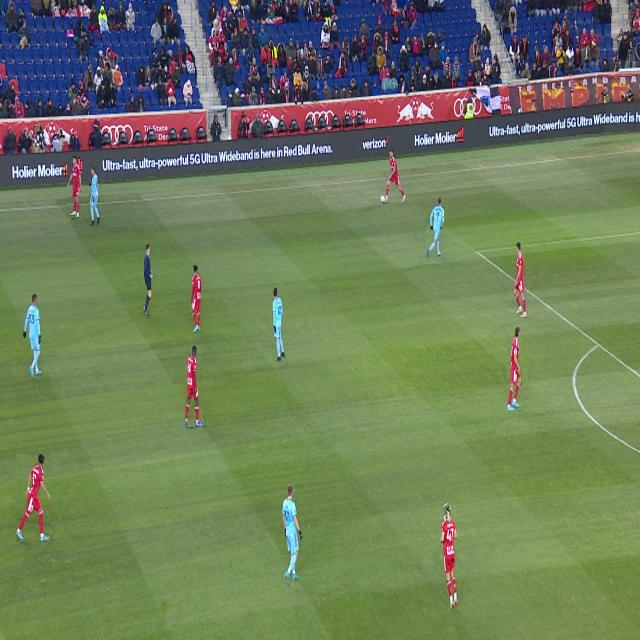football: (380, 195, 385, 203)
player: (17, 454, 51, 542), (282, 485, 302, 585), (440, 502, 457, 609), (23, 294, 41, 377), (186, 347, 203, 427), (507, 327, 522, 410), (384, 149, 406, 203), (513, 242, 527, 317), (427, 198, 444, 258), (273, 288, 285, 361), (68, 157, 82, 218), (191, 265, 201, 332), (89, 167, 100, 226)
referee: (144, 244, 153, 316)
